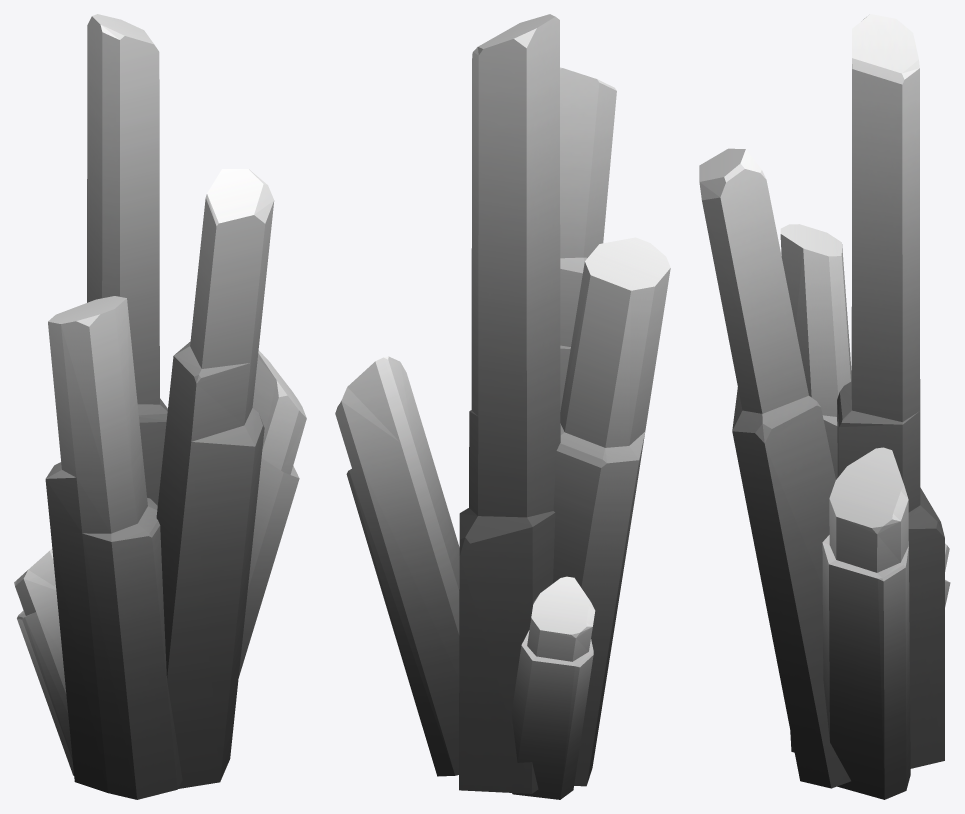
Rendered from CrystalCubeCluster_D.fbx.
The picture shows the model from 3 angles, left to right: view 1: azimuth 30°, elevation 25°; view 2: azimuth 150°, elevation 25°; view 3: azimuth 270°, elevation 25°; orthographic projection. The views are drawn at different scales.
Parts seen in each view (by area): view 1: CrystalCubeCluster_D; view 2: CrystalCubeCluster_D; view 3: CrystalCubeCluster_D.
Part boxes in pixels (x1,y1,x2,y2): CrystalCubeCluster_D: [14, 14, 306, 799]; CrystalCubeCluster_D: [335, 14, 670, 799]; CrystalCubeCluster_D: [699, 14, 950, 799].
Bounding box in the file's own units: 209 × 541 × 168.
1 material, 1 textured.
